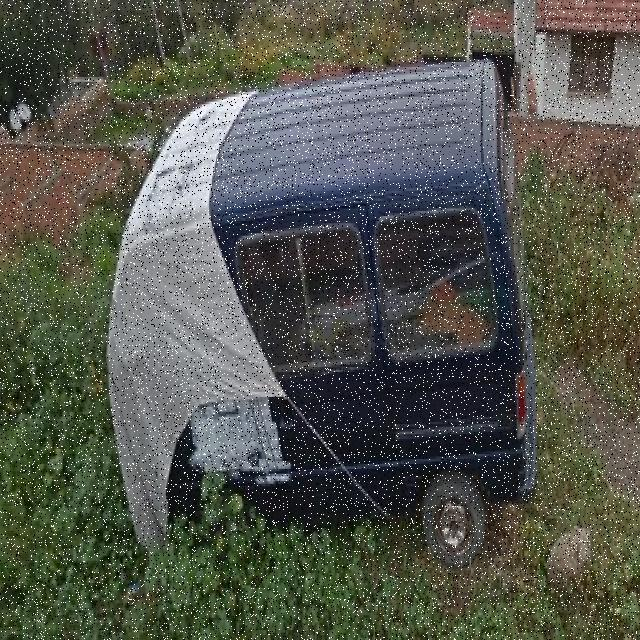cars: (97, 55, 549, 572)
